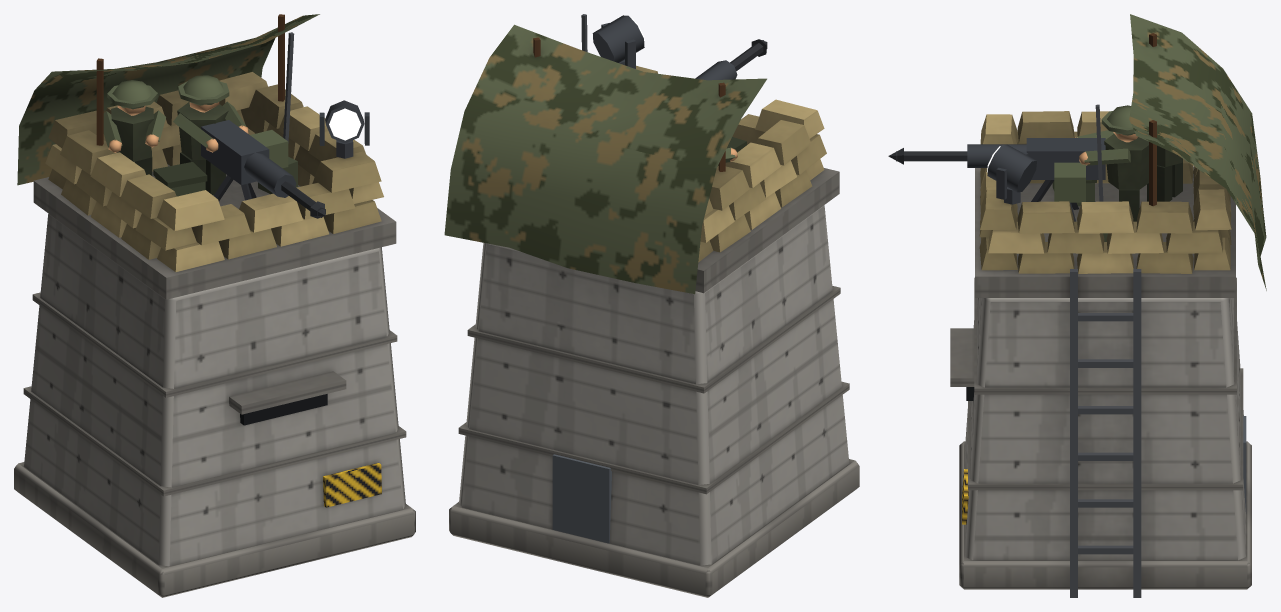
The model's file is tower_l5.glb.
3 views of the same model, side by side, from view 1: azimuth 30°, elevation 25°; view 2: azimuth 150°, elevation 25°; view 3: azimuth 270°, elevation 25° (orthographic). The views are drawn at different scales.
Parts seen in each view (by area): view 1: tower_l5; view 2: tower_l5; view 3: tower_l5.
Part boxes in pixels (bbox=[...]): tower_l5: bbox=[14, 14, 415, 597]; tower_l5: bbox=[444, 14, 859, 597]; tower_l5: bbox=[888, 14, 1266, 597].
Size of the model in its own units: 0.39 by 0.6405 by 0.4789.
2 materials, 1 textured.
